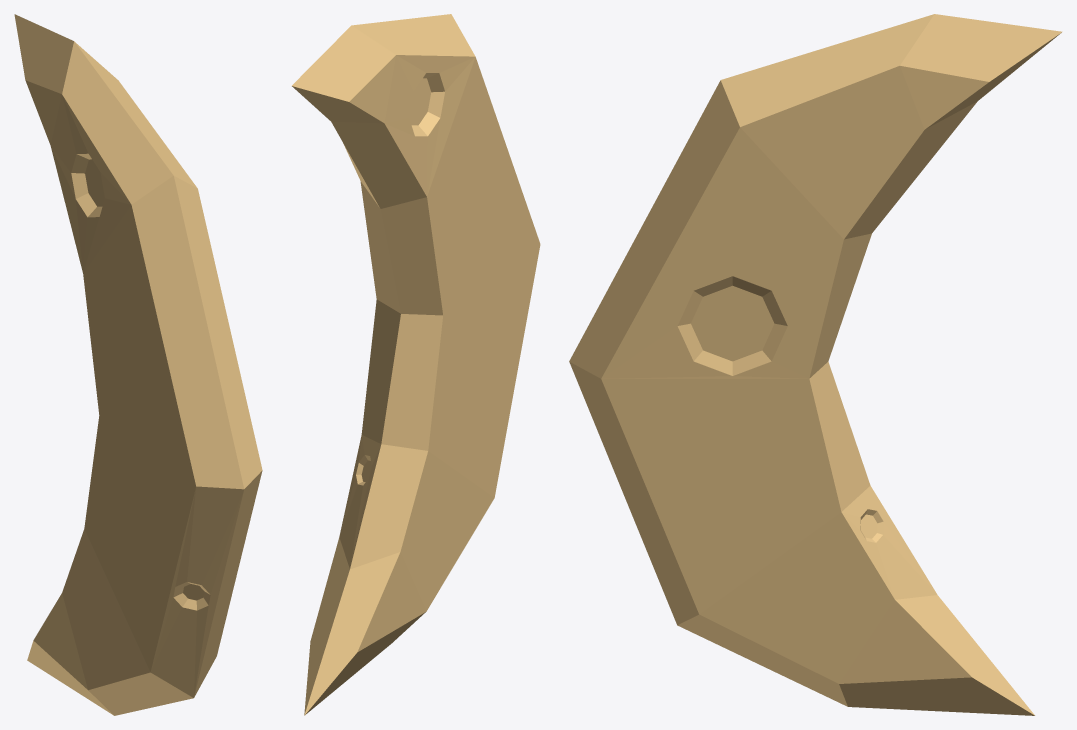
Rendered from Moon_01.gltf.
The picture shows the model from 3 angles, left to right: view 1: azimuth 30°, elevation 25°; view 2: azimuth 150°, elevation 25°; view 3: azimuth 270°, elevation 25°; orthographic projection. The views are drawn at different scales.
Parts seen in each view (by area): view 1: node-0; view 2: node-0; view 3: node-0.
Boxes of the visible parts, <box> form: node-0: <box>14,14,262,715</box>; node-0: <box>292,14,540,715</box>; node-0: <box>569,14,1062,715</box>.
Size of the model in its own units: 1.06 by 9.94 by 6.34.
